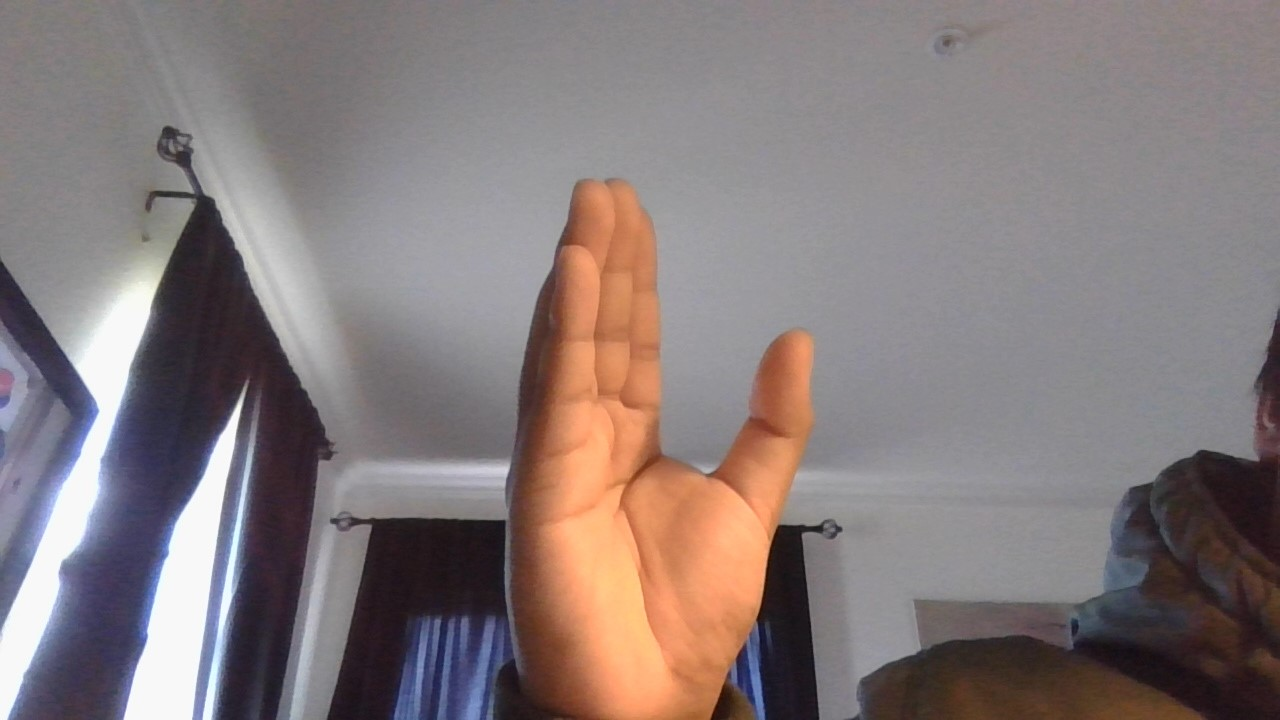j: (454, 153, 846, 720)
